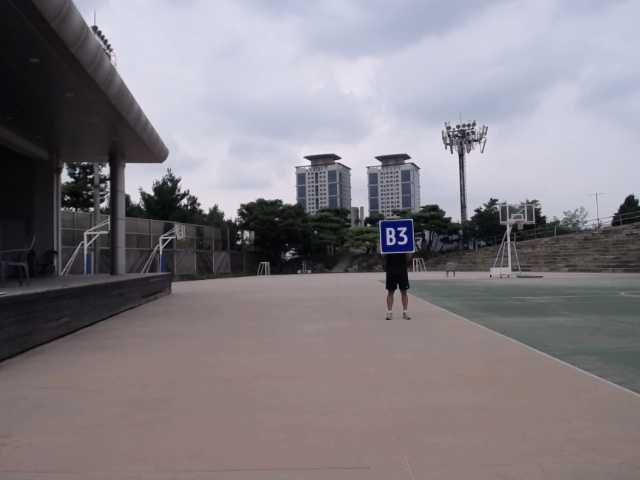delivery_b3: (379, 219, 417, 255)
